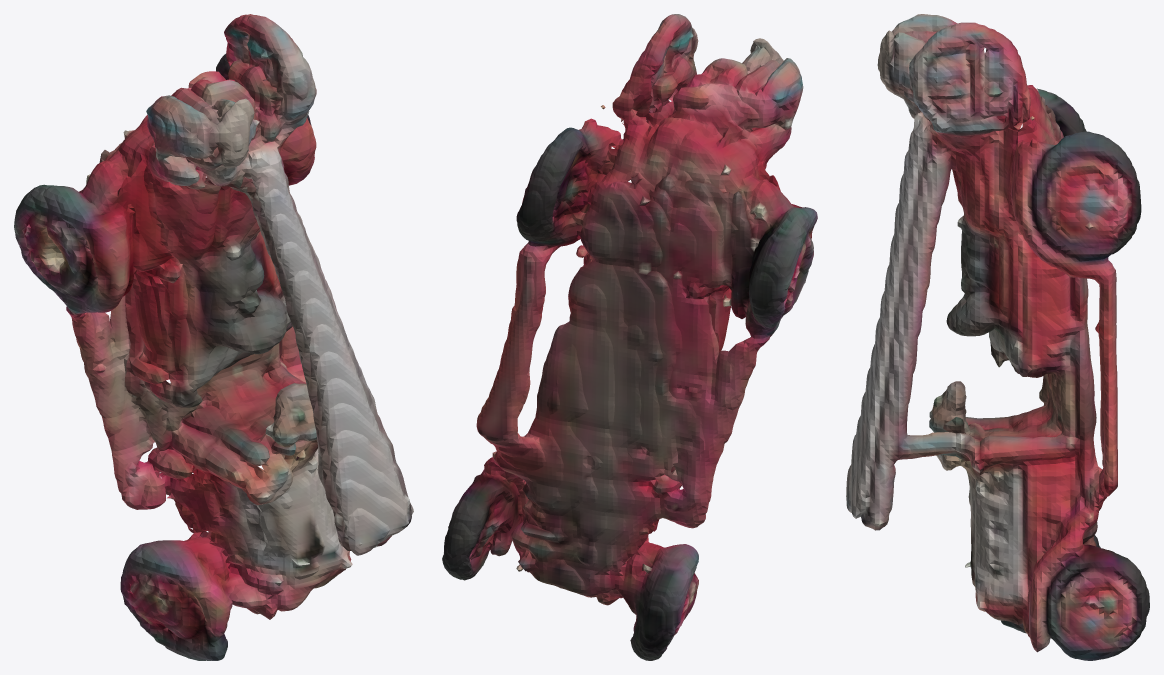
File: 000015_traffic_fire fighters_fire truck.glb
3 views of the same model, side by side, from view 1: azimuth 30°, elevation 25°; view 2: azimuth 150°, elevation 25°; view 3: azimuth 270°, elevation 25° (orthographic). The views are drawn at different scales.
Parts seen in each view (by area): view 1: world; view 2: world; view 3: world.
Boxes of the visible parts, x1,y1,x2,y2 form: world: (14,14,413,660); world: (442,14,817,660); world: (846,14,1149,660).
Bounding box in the file's own units: 0.5647 × 0.9856 × 0.4352.
